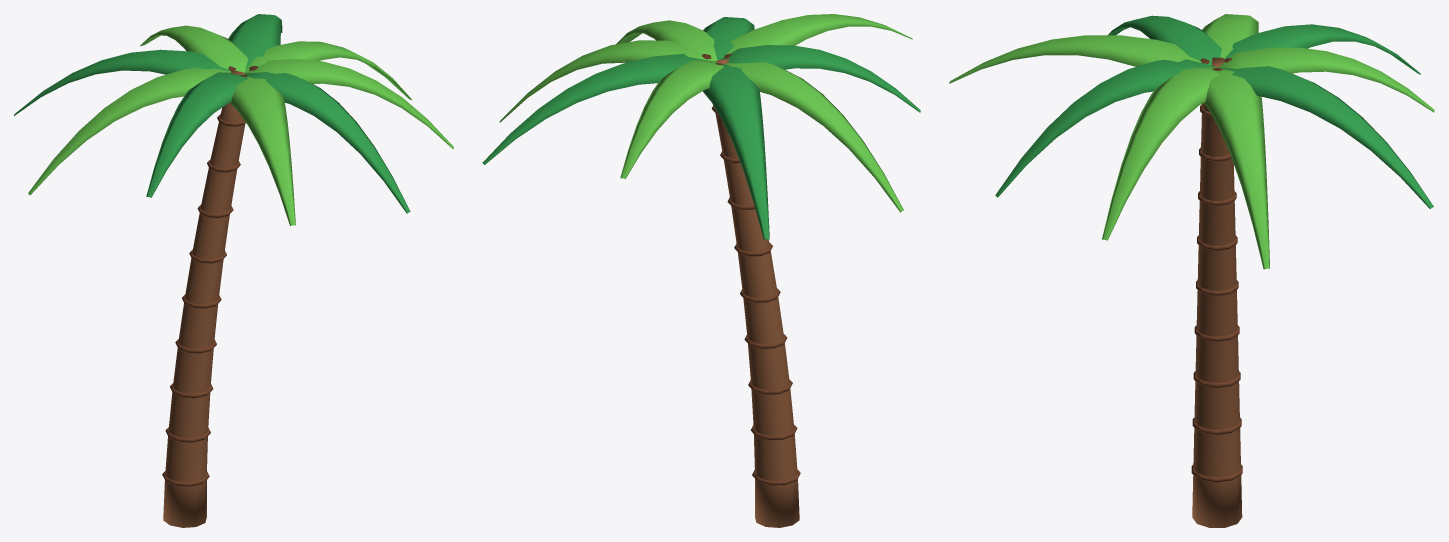
Rendered from palm.glb.
3 renders of one model, left to right at view 1: azimuth 30°, elevation 25°; view 2: azimuth 150°, elevation 25°; view 3: azimuth 270°, elevation 25°, orthographic. The views are drawn at different scales.
Visible parts, largest first — view 1: Palm; view 2: Palm; view 3: Palm.
Part boxes in pixels (left/top/right/bottom): Palm: left=14, top=14, right=453, bottom=527; Palm: left=482, top=14, right=920, bottom=527; Palm: left=949, top=14, right=1434, bottom=527.
Size of the model in its own units: 6.02 by 6.56 by 5.82.
